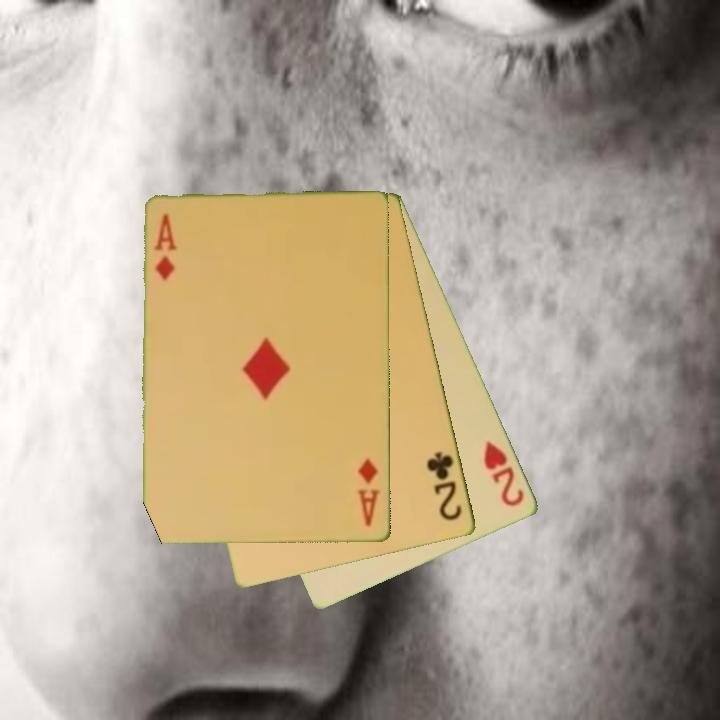2c: (423, 448, 466, 524)
2h: (480, 437, 528, 510)
Ad: (355, 455, 384, 529), (151, 211, 179, 284)
